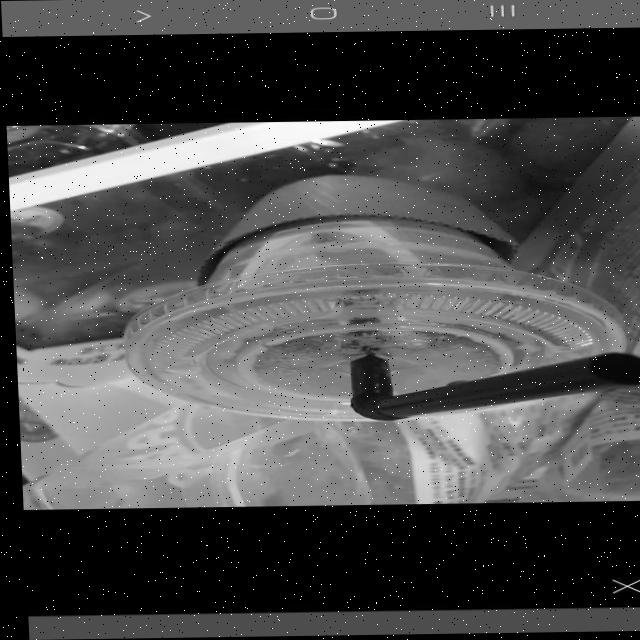cup: (82, 161, 640, 434)
